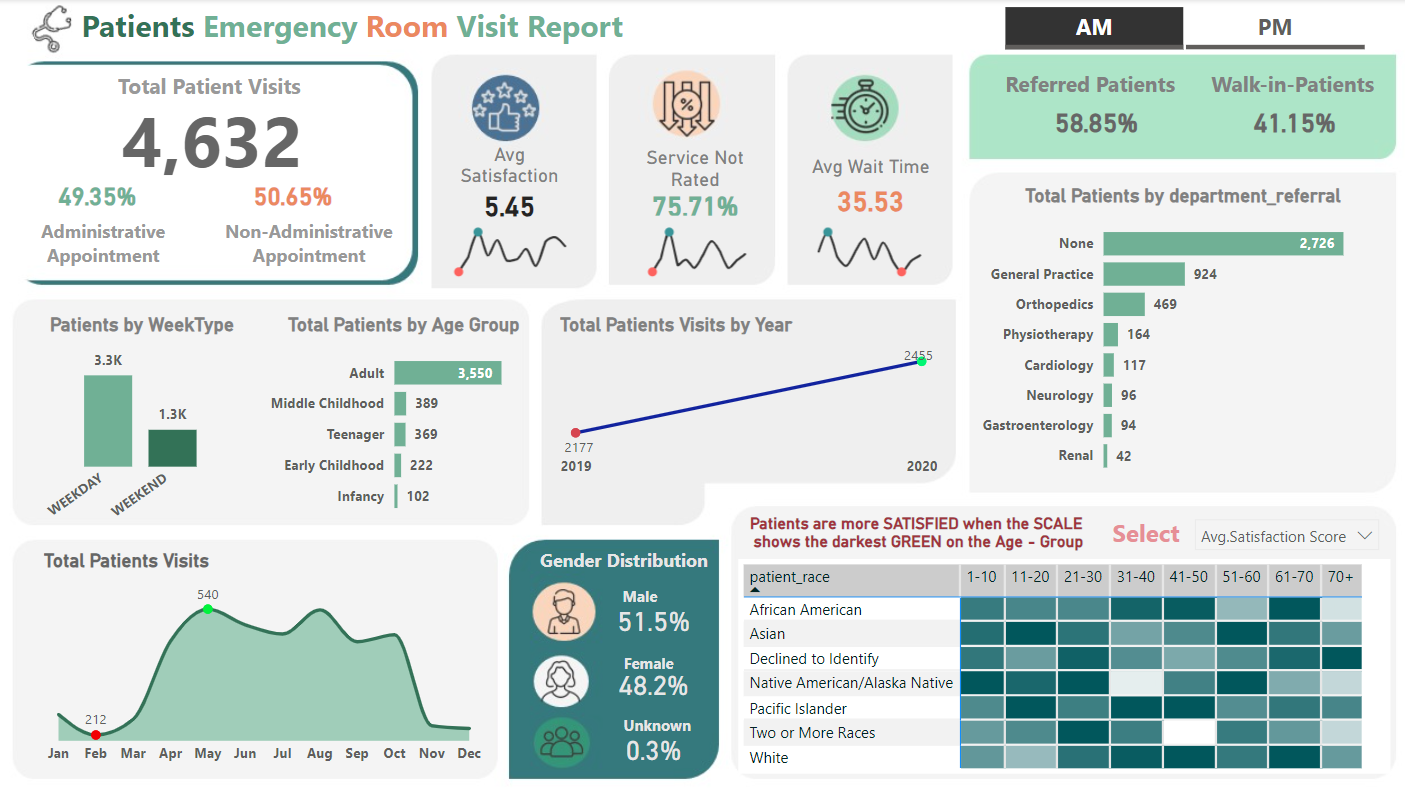

What the dashboard file says about the page in this screenshot:
{"tool":"powerbi","page":{"name":"Dashboard","canvas":[1280,720],"ordinal":0},"visuals":[{"type":"card","fields":{"Values":["Calculations.Total Patients"]},"box":[75.4,82.3,241.3,79.6],"z":0},{"type":"card","fields":{"Values":["Calculations.% Administration people"]},"box":[25.3,147.4,136.3,56.7],"z":1000},{"type":"card","fields":{"Values":["Calculations.% Non -  Administration Schedule"]},"box":[216,147.4,103.8,56.7],"z":2000},{"type":"pivotTable","fields":{"Values":["Calculations.Average Satisfaction Score"],"Rows":["Hospital ER.patient_race"],"Columns":["Hospital ER.Age Buckets"]},"box":[665.1,502.1,580,187.6],"z":3000},{"type":"slicer","fields":{"Values":["Parameter.Parameter"]},"box":[1061.4,453.4,184.1,59.1],"z":4000},{"type":"areaChart","title":"Total Patients Visits","fields":{"Category":["Date.MONTH"],"Y":["Calculations.Total Patients","Calculations.Value Max Point (month)"]},"box":[40.9,489.8,402.3,200],"z":5000},{"type":"clusteredBarChart","fields":{"Category":["Hospital ER.Age Group"],"Y":["Calculations.Total Patients"]},"box":[242,279.5,250,190.9],"z":6000},{"type":"card","fields":{"Values":["Calculations.Heat map Caption"]},"box":[646.6,450,356.8,52.3],"z":7000},{"type":"textbox","box":[21,189.9,155.6,61.5],"z":8000},{"type":"textbox","box":[194.7,189.9,174.9,60.3],"z":9000},{"type":"card","title":"Service Not Rated","fields":{"Values":["Calculations.% No Rating"]},"box":[594.8,131.5,88.1,66.4],"z":10000},{"type":"card","title":"Avg Satisfaction","fields":{"Values":["Calculations.Average Satisfaction Score"]},"box":[422.3,127.9,102.5,73.6],"z":11000},{"type":"card","title":"Avg Wait Time","fields":{"Values":["Calculations.Average Wait Time"]},"box":[732.9,128.4,108.2,66.4],"z":12000},{"type":"clusteredBarChart","fields":{"Category":["Hospital ER.department_referral"],"Y":["Calculations.Total Patients"]},"box":[875.9,165.3,369.2,269],"z":13000},{"type":"card","fields":{"Values":["Calculations.Refered Patients"]},"box":[932.6,92.9,101.3,35],"z":14000},{"type":"card","fields":{"Values":["Calculations.% un Refered Patients"]},"box":[1113.5,92.9,94.1,35],"z":15000},{"type":"textbox","box":[891.4,58,172.4,37.9],"z":16000},{"type":"textbox","box":[1072.5,57.9,172.5,38.6],"z":17000},{"type":"clusteredColumnChart","title":"Patients by WeekType","fields":{"Category":["Date.WEEK TYPE"],"Y":["Calculations.Total Patients"]},"box":[26.1,279.5,215.9,202.3],"z":18000},{"type":"card","fields":{"Values":["Calculations.Gender Percentage"]},"box":[551.1,538.4,76,29.4],"z":19000},{"type":"card","fields":{"Values":["Calculations.% Female visits"]},"box":[551.1,588.1,76.3,46.1],"z":20000},{"type":"card","fields":{"Values":["Calculations.% Unknown visits"]},"box":[551.1,647.7,76.1,42],"z":21000},{"type":"PBI_CV_25997FEB_F466_44FA_B562_AC4063283C4C","fields":{"measure":["Calculations.Average Wait Time"],"axis":["Date.MONTH"]},"box":[733.5,190.6,114.6,62.7],"z":22000},{"type":"PBI_CV_25997FEB_F466_44FA_B562_AC4063283C4C","fields":{"measure":["Calculations.% No Rating"],"axis":["Date.MONTH"]},"box":[577.9,190.6,114.6,62.7],"z":23000},{"type":"PBI_CV_25997FEB_F466_44FA_B562_AC4063283C4C","fields":{"measure":["Calculations.Average Satisfaction Score"],"axis":["Date.MONTH"]},"box":[417.4,190.6,114.6,62.7],"z":24000},{"type":"textbox","box":[70.1,60.6,246.7,36.1],"z":25000},{"type":"textbox","box":[551.1,517.8,52,29.9],"z":26000},{"type":"textbox","box":[551.1,577.8,67.6,27.5],"z":27000},{"type":"textbox","box":[551.1,631.8,83,37.5],"z":28000},{"type":"lineChart","title":"Total Patients Visits by Year","fields":{"Category":["Date.YEAR"],"Y":["Calculations.Value Max Point (Year)","Calculations.Total Patients"]},"box":[525.2,279.9,321.7,154.4],"z":29000},{"type":"textbox","box":[483.6,482.6,173.5,33.3],"z":30000},{"type":"textbox","box":[993.2,455.7,83,43.2],"z":31000},{"type":"textbox","box":[75,0,510.2,48.9],"z":32000},{"type":"slicer","fields":{"Values":["Hospital ER.Medium"]},"box":[875.9,0,370.4,49.5],"z":32001}]}

Visuals, with their boxes in screenshot pixels (x1, y1, x2, y2), scaled from the page's 1280x720 canvas onto the 1405x789 screenshot:
card - Calculations.Total Patients: l=83, t=90, r=348, b=177
card - Calculations.% Administration people: l=28, t=162, r=177, b=224
card - Calculations.% Non -  Administration Schedule: l=237, t=162, r=351, b=224
pivotTable - Calculations.Average Satisfaction Score x Hospital ER.patient_race: l=730, t=550, r=1367, b=756
slicer - Parameter.Parameter: l=1165, t=497, r=1367, b=562
"Total Patients Visits" areaChart: l=45, t=537, r=486, b=756
clusteredBarChart - Hospital ER.Age Group x Calculations.Total Patients: l=266, t=306, r=540, b=515
card - Calculations.Heat map Caption: l=710, t=493, r=1101, b=550
textbox: l=23, t=208, r=194, b=275
textbox: l=214, t=208, r=406, b=274
"Service Not Rated" card: l=653, t=144, r=750, b=217
"Avg Satisfaction" card: l=464, t=140, r=576, b=221
"Avg Wait Time" card: l=804, t=141, r=923, b=213
clusteredBarChart - Hospital ER.department_referral x Calculations.Total Patients: l=961, t=181, r=1367, b=476
card - Calculations.Refered Patients: l=1024, t=102, r=1135, b=140
card - Calculations.% un Refered Patients: l=1222, t=102, r=1326, b=140
textbox: l=978, t=64, r=1168, b=105
textbox: l=1177, t=63, r=1367, b=106
"Patients by WeekType" clusteredColumnChart: l=29, t=306, r=266, b=528
card - Calculations.Gender Percentage: l=605, t=590, r=688, b=622
card - Calculations.% Female visits: l=605, t=644, r=689, b=695
card - Calculations.% Unknown visits: l=605, t=710, r=688, b=756
PBI_CV_25997FEB_F466_44FA_B562_AC4063283C4C - Calculations.Average Wait Time x Date.MONTH: l=805, t=209, r=931, b=278
PBI_CV_25997FEB_F466_44FA_B562_AC4063283C4C - Calculations.% No Rating x Date.MONTH: l=634, t=209, r=760, b=278
PBI_CV_25997FEB_F466_44FA_B562_AC4063283C4C - Calculations.Average Satisfaction Score x Date.MONTH: l=458, t=209, r=584, b=278
textbox: l=77, t=66, r=348, b=106
textbox: l=605, t=567, r=662, b=600
textbox: l=605, t=633, r=679, b=663
textbox: l=605, t=692, r=696, b=733
"Total Patients Visits by Year" lineChart: l=576, t=307, r=930, b=476
textbox: l=531, t=529, r=721, b=565
textbox: l=1090, t=499, r=1181, b=547
textbox: l=82, t=0, r=642, b=54
slicer - Hospital ER.Medium: l=961, t=0, r=1368, b=54
